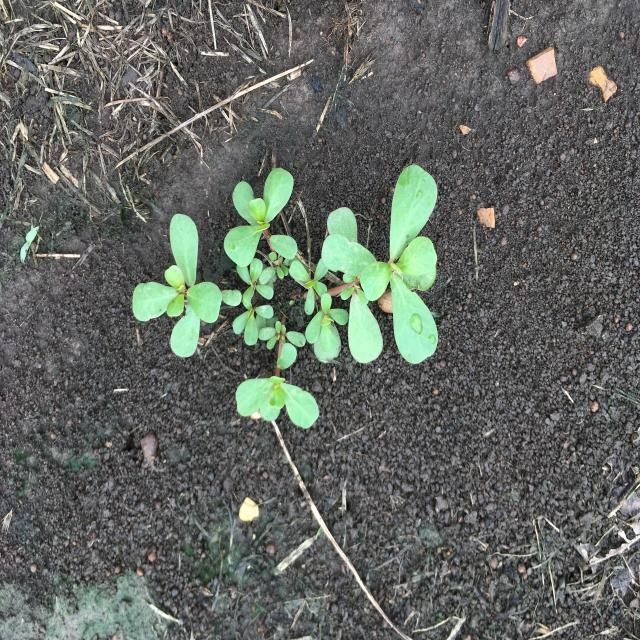Purslane: (133, 164, 440, 428)
